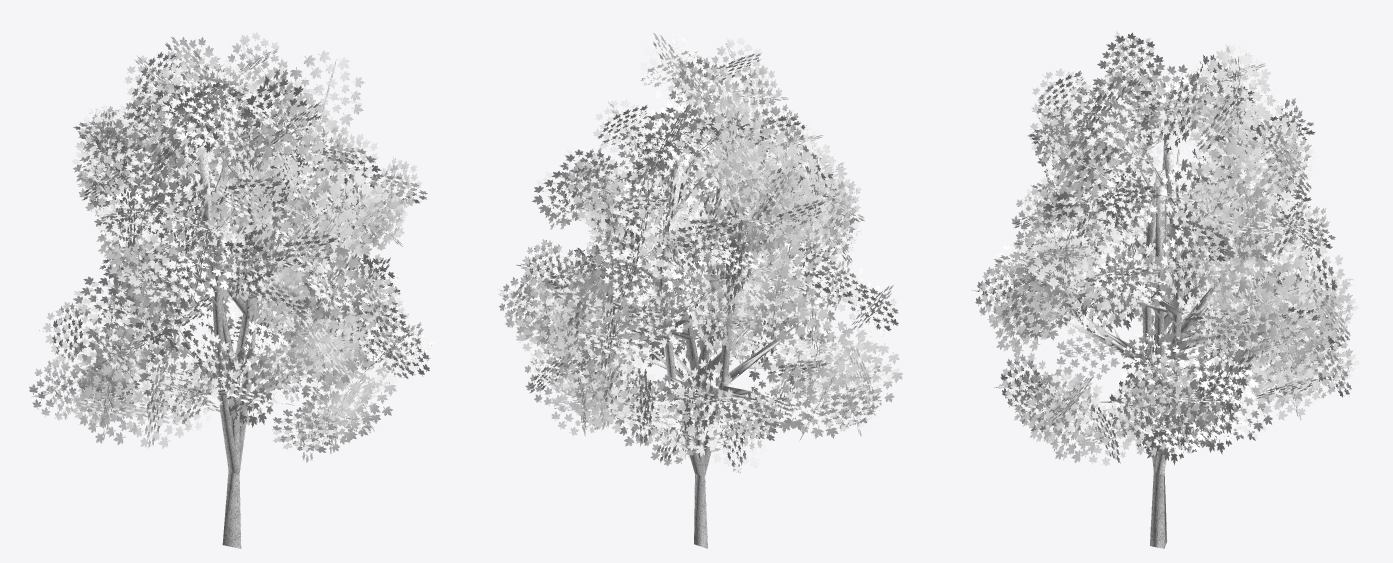
File: SugarMaple_LOD1_P2268_B816_L768_v01.fbx
3 views of the same model, side by side, from view 1: azimuth 30°, elevation 25°; view 2: azimuth 150°, elevation 25°; view 3: azimuth 270°, elevation 25° (orthographic). The views are drawn at different scales.
Visible parts, largest first — view 1: leafclumpatlas_maple_1, sugarmaplebarktextureseamless_0; view 2: leafclumpatlas_maple_1, sugarmaplebarktextureseamless_0; view 3: leafclumpatlas_maple_1, sugarmaplebarktextureseamless_0.
Boxes of the visible parts, x1,y1,x2,y2 form: leafclumpatlas_maple_1: [29, 31, 434, 462]; sugarmaplebarktextureseamless_0: [124, 135, 336, 548]; leafclumpatlas_maple_1: [498, 32, 902, 473]; sugarmaplebarktextureseamless_0: [602, 159, 801, 548]; leafclumpatlas_maple_1: [971, 30, 1360, 466]; sugarmaplebarktextureseamless_0: [1066, 132, 1259, 548].
Size of the model in its own units: 1179 by 1471 by 1110.
